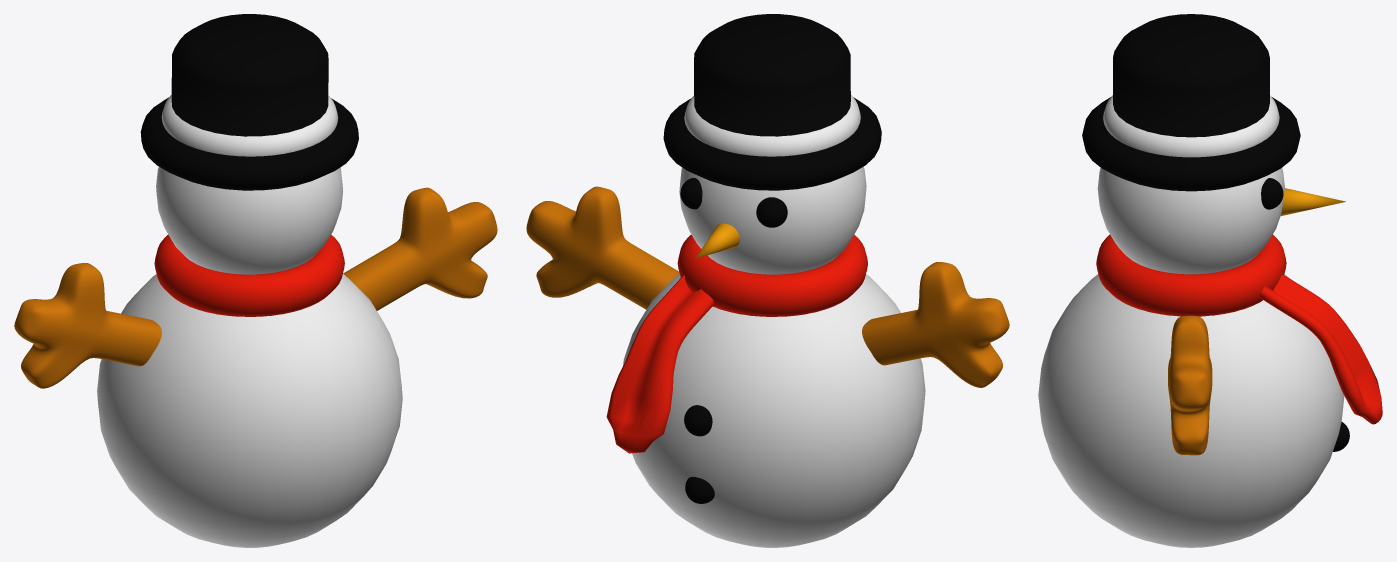
The model's file is Snowman.fbx.
The picture shows the model from 3 angles, left to right: view 1: azimuth 30°, elevation 25°; view 2: azimuth 150°, elevation 25°; view 3: azimuth 270°, elevation 25°; orthographic projection.
Parts seen in each view (by area): view 1: Sphere, Cylinder, Sphere.001, Cube.001, Cube, BezierCurve, Torus.001; view 2: Sphere, Cylinder, BezierCurve, Sphere.001, Cube.001, Cube, Torus.001, Cone, Sphere.002, Sphere.005, Sphere.006; view 3: Sphere, Cylinder, BezierCurve, Sphere.001, Cube.001, Torus.001, Cone, Sphere.004.
Part boxes in pixels (x1,y1,x2,y2): Sphere: [97, 273, 402, 547]; Cylinder: [140, 14, 358, 190]; Sphere.001: [156, 167, 342, 274]; Cube.001: [343, 187, 497, 310]; Cube: [14, 263, 161, 388]; BezierCurve: [154, 234, 344, 316]; Torus.001: [161, 95, 338, 156]; Sphere: [623, 273, 925, 547]; Cylinder: [663, 14, 881, 190]; BezierCurve: [606, 234, 867, 453]; Sphere.001: [679, 167, 866, 274]; Cube.001: [526, 186, 679, 309]; Cube: [862, 262, 1009, 387]; Torus.001: [684, 95, 860, 156]; Cone: [695, 223, 739, 258]; Sphere.002: [756, 197, 787, 227]; Sphere.005: [684, 405, 712, 436]; Sphere.006: [685, 476, 714, 503]; Sphere: [1038, 274, 1344, 547]; Cylinder: [1082, 14, 1300, 191]; BezierCurve: [1096, 234, 1382, 424]; Sphere.001: [1097, 168, 1284, 274]; Cube.001: [1168, 315, 1212, 455]; Torus.001: [1103, 95, 1279, 157]; Cone: [1280, 188, 1345, 215]; Sphere.004: [1261, 178, 1283, 209].
Size of the model in its own units: 504 by 502 by 317.
